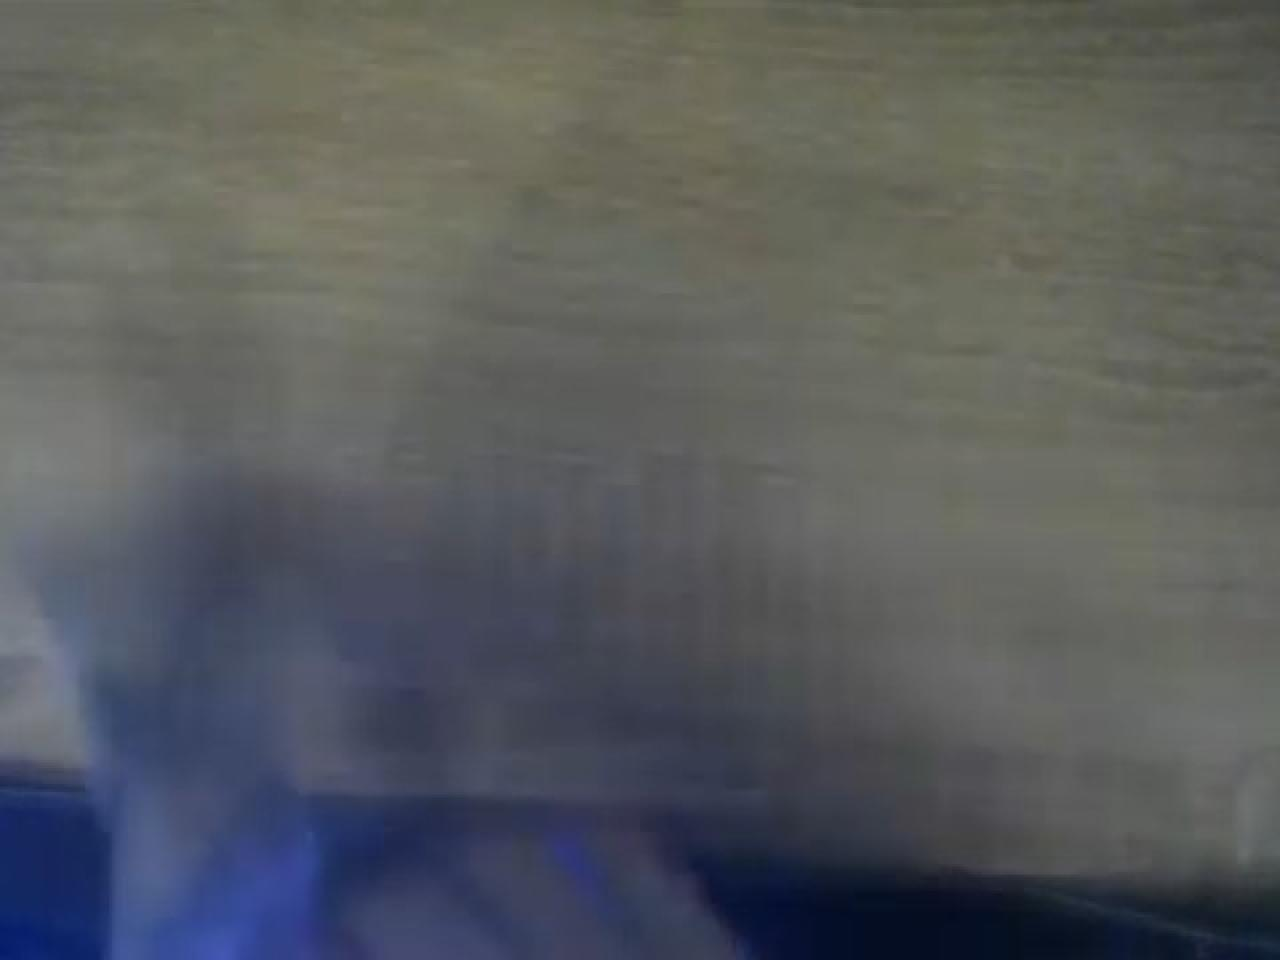10leva: (3, 3, 1280, 960)
